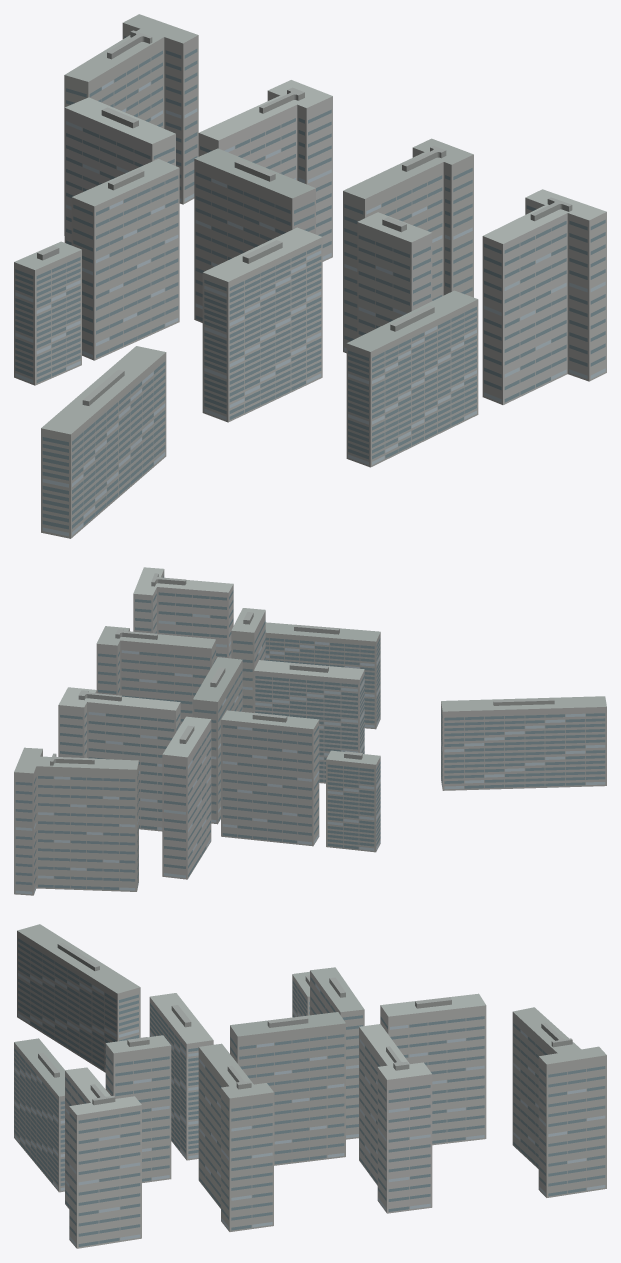
Rendered from apt-a13788208.glb.
3 views of the same model, one above another, from view 1: azimuth 30°, elevation 25°; view 2: azimuth 150°, elevation 25°; view 3: azimuth 270°, elevation 25° (orthographic). The views are drawn at different scales.
Visible parts, largest first — view 1: apt-a13788208; view 2: apt-a13788208; view 3: apt-a13788208.
Boxes of the visible parts, x1=… form: apt-a13788208: x1=14, y1=14, x2=606, y2=538; apt-a13788208: x1=14, y1=567, x2=606, y2=895; apt-a13788208: x1=14, y1=924, x2=606, y2=1248.
Size of the model in its own units: 270 by 73 by 284.
